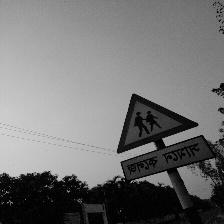College-in-front: (116, 87, 218, 211)
